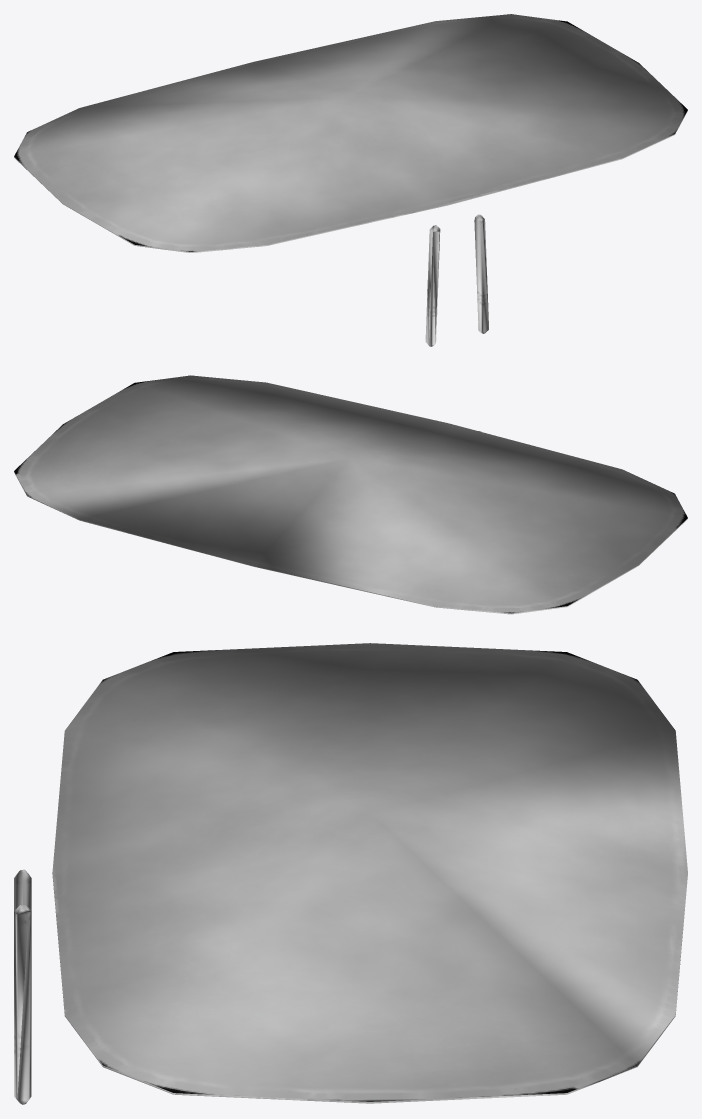
File: LowerTorso_C2.fbx
3 renders of one model, top to bottom at view 1: azimuth 30°, elevation 25°; view 2: azimuth 150°, elevation 25°; view 3: azimuth 270°, elevation 25°, orthographic. The views are drawn at different scales.
Parts seen in each view (by area): view 1: Civ_Jogging_LowerTorso_C2; view 2: Civ_Jogging_LowerTorso_C2; view 3: Civ_Jogging_LowerTorso_C2.
Boxes of the visible parts, x1,y1,x2,y2 form: Civ_Jogging_LowerTorso_C2: (14, 14, 687, 346); Civ_Jogging_LowerTorso_C2: (14, 375, 687, 614); Civ_Jogging_LowerTorso_C2: (14, 643, 687, 1104).
Size of the model in its own units: 2.35 by 0.6434 by 1.46.
